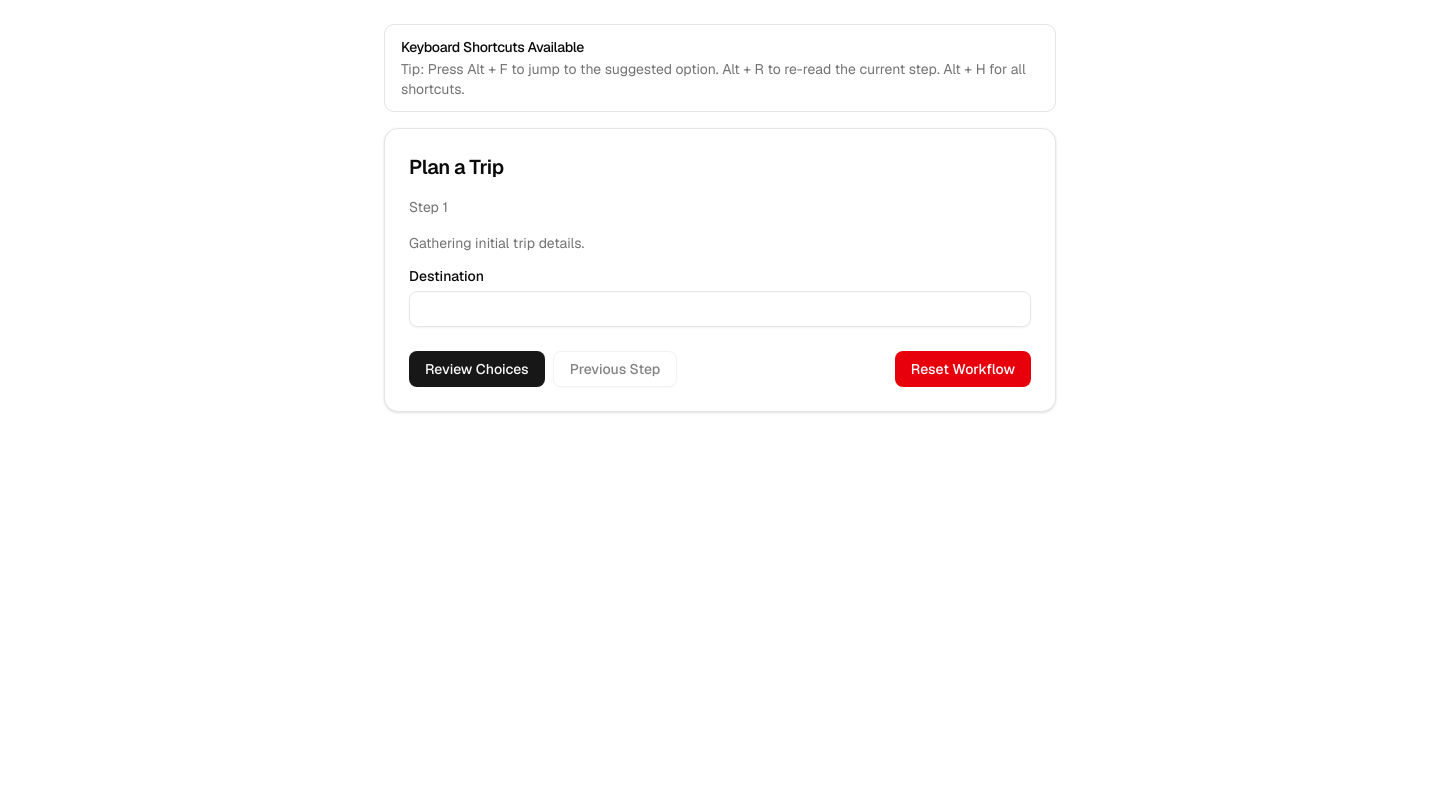
Test: WorkflowStepContainer › Safe Mode › clicking "Review Choices" opens a dialog when form is valid
Type "Rome" into the field labelled "Destination". click: (720, 309)
box: top-left (409, 291), bottom-right (1031, 327)
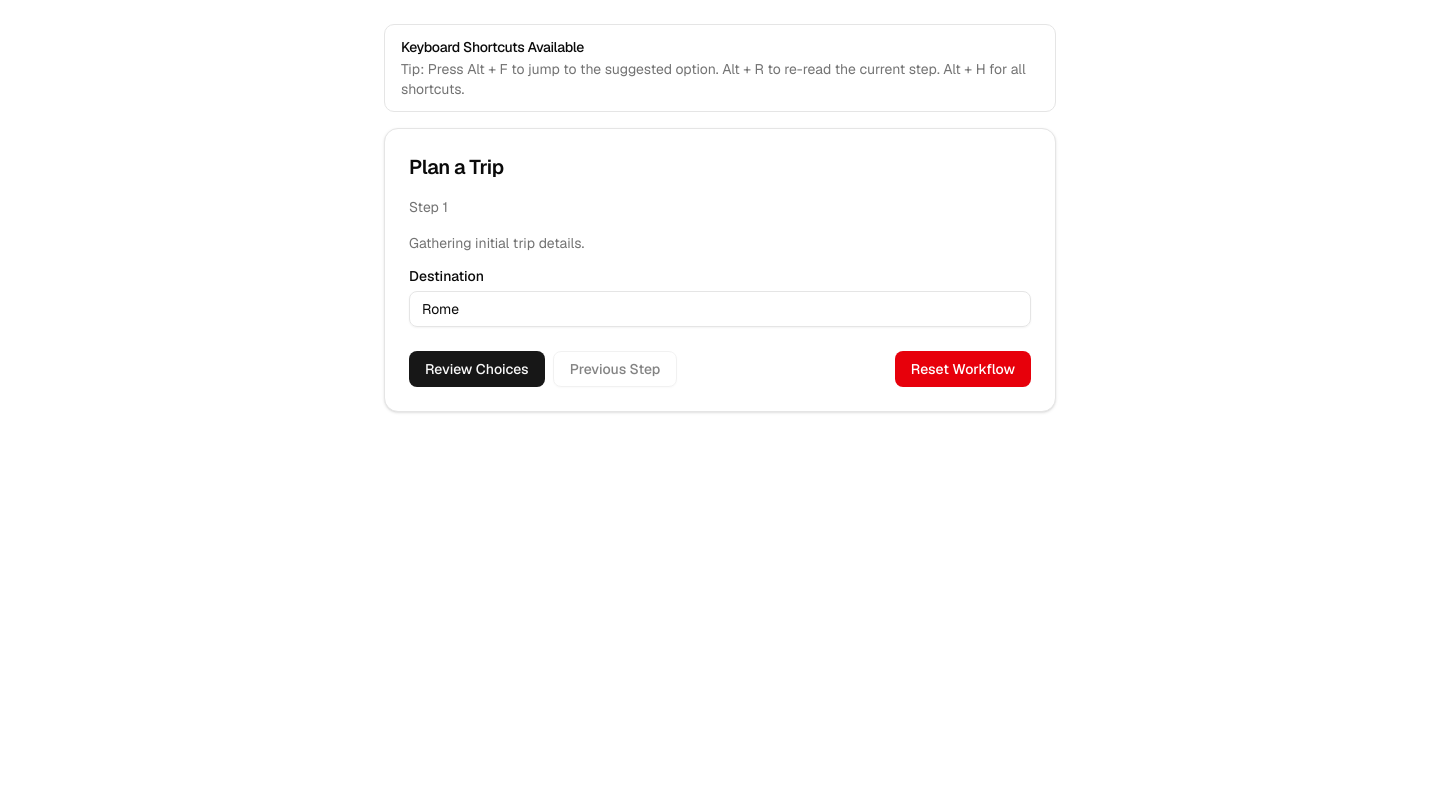
Click the button "Review Choices". click: (477, 369)
box: top-left (409, 351), bottom-right (545, 387)
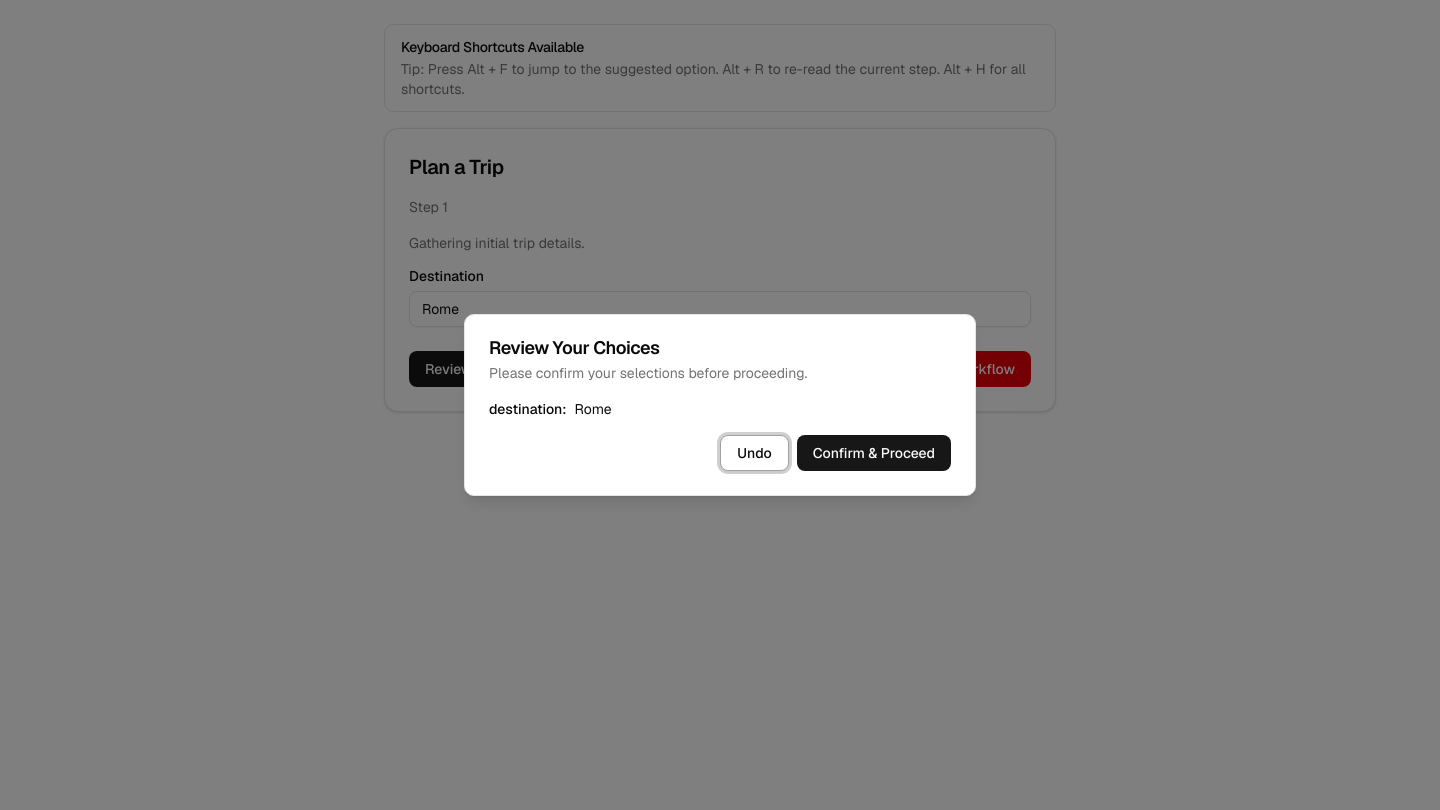
Expected: the dialog is shown, top-left (464, 314), bottom-right (976, 496)
Expected: the heading "Review Your Choices" is shown, top-left (489, 336), bottom-right (660, 359)
